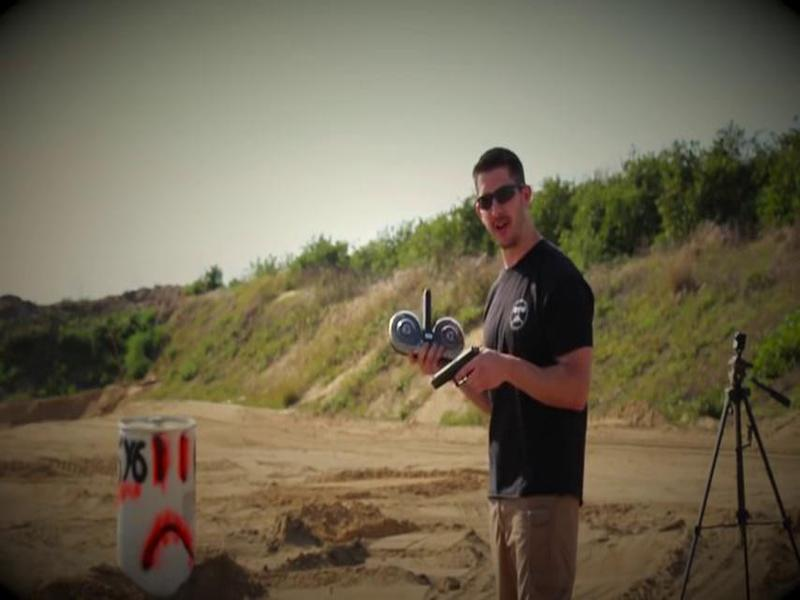Pistola: (426, 341, 499, 408)
